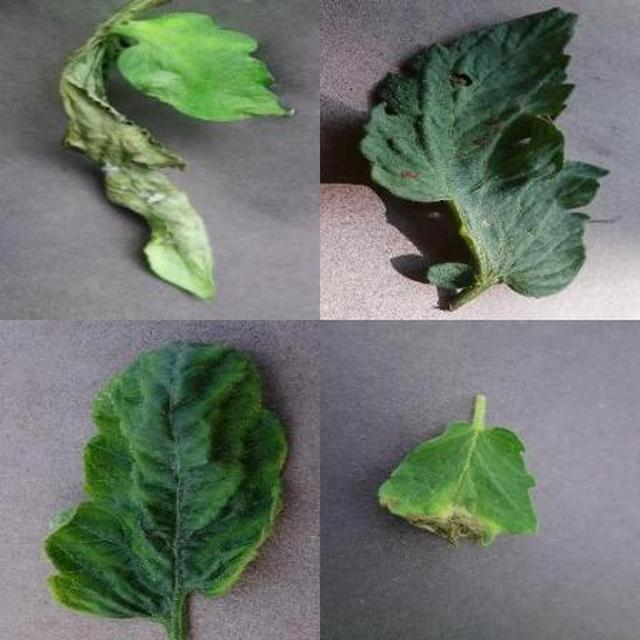Late Blight Leaf: (196, 96, 640, 640)
